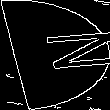N_W: (7, 32, 103, 78)
